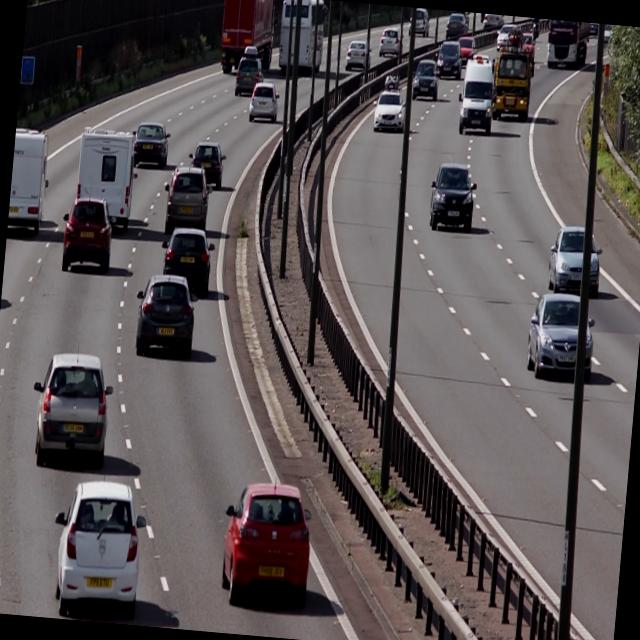Vehicle: (213, 475, 320, 624), (47, 478, 150, 622), (30, 349, 116, 466), (70, 122, 140, 232), (525, 291, 599, 383), (132, 272, 198, 360), (6, 120, 54, 240), (156, 225, 217, 301), (217, 0, 278, 76), (487, 29, 536, 123), (548, 216, 604, 298), (59, 198, 116, 274), (456, 49, 500, 140), (276, 0, 327, 76), (162, 163, 212, 234), (428, 161, 478, 231), (544, 18, 592, 70), (186, 136, 228, 192), (371, 72, 408, 134), (130, 121, 172, 168), (230, 48, 266, 100), (247, 79, 283, 125), (412, 54, 441, 102), (434, 38, 464, 83), (343, 33, 374, 75), (378, 22, 406, 58), (456, 30, 477, 68), (408, 7, 432, 38)
